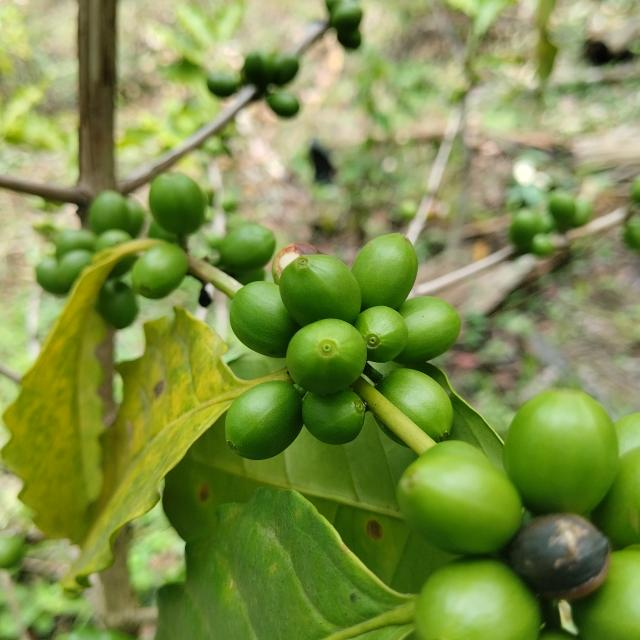green: (504, 390, 620, 515), (397, 441, 523, 556), (415, 560, 541, 640), (225, 381, 303, 461), (286, 319, 367, 395), (279, 254, 361, 326), (375, 369, 453, 442), (229, 281, 301, 358), (352, 233, 419, 310), (394, 296, 461, 364), (148, 172, 206, 235), (302, 389, 366, 445), (354, 306, 408, 363), (378, 420, 408, 447)
red: (508, 514, 611, 600)
